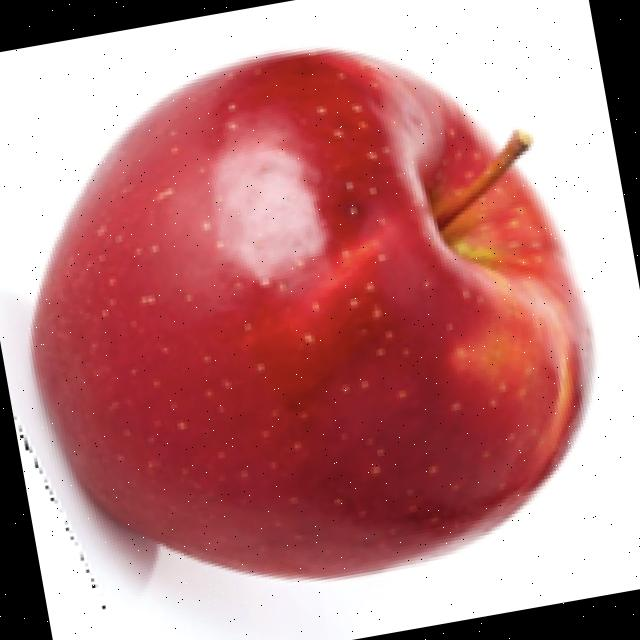apple: (0, 41, 601, 632)
